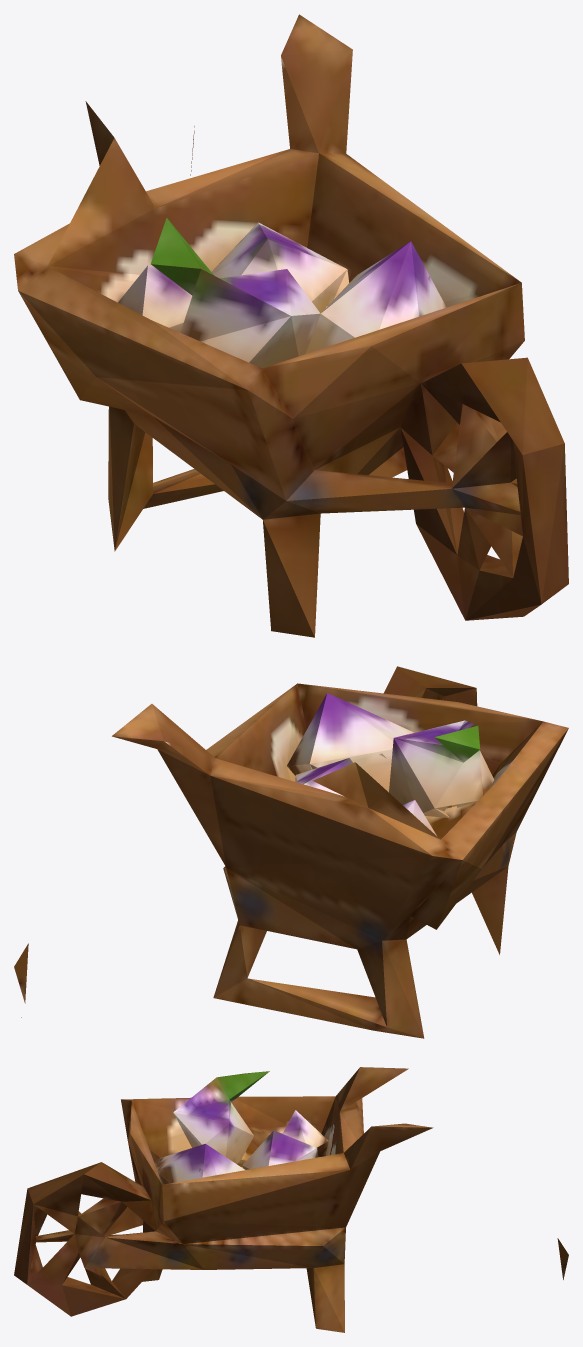
File: wheelbarrow.glb
3 views of the same model, one above another, from view 1: azimuth 30°, elevation 25°; view 2: azimuth 150°, elevation 25°; view 3: azimuth 270°, elevation 25° (orthographic). The views are drawn at different scales.
Parts seen in each view (by area): view 1: wheelbarrow; view 2: wheelbarrow; view 3: wheelbarrow.
Part boxes in pixels (bbox=[...]): wheelbarrow: bbox=[14, 14, 568, 637]; wheelbarrow: bbox=[14, 666, 568, 1038]; wheelbarrow: bbox=[14, 1067, 568, 1332].
Size of the model in its own units: 0.683 by 0.6882 by 1.49.
1 material, 1 textured.
